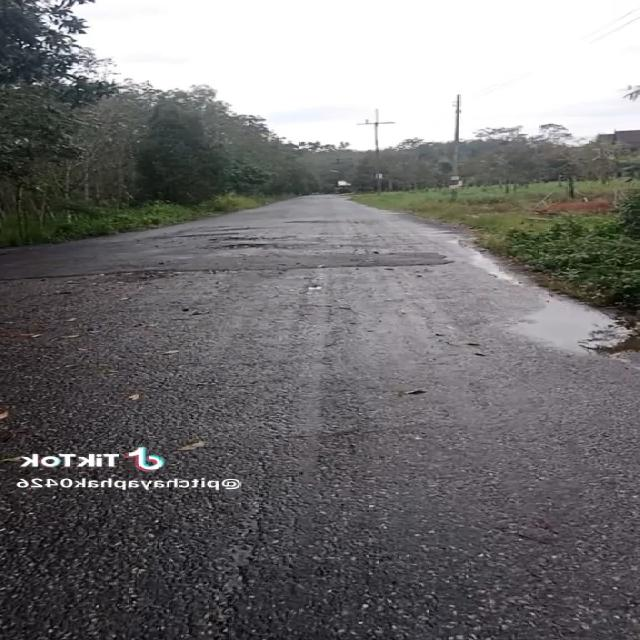Poth-hole: (182, 220, 274, 265)
